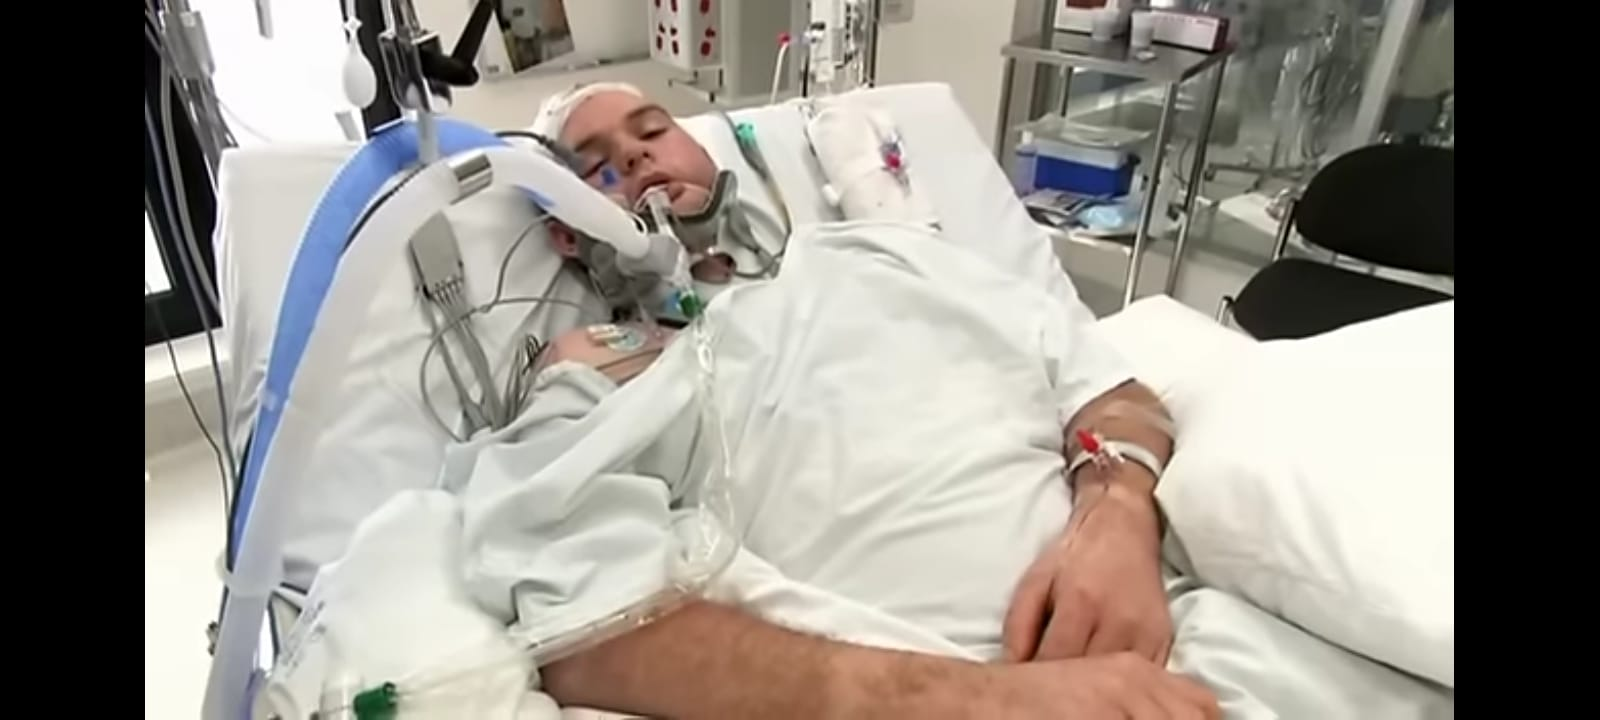patient: (445, 78, 1207, 720)
